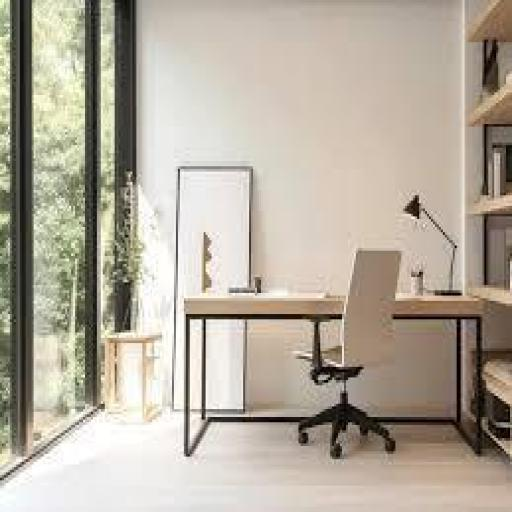chair: (294, 245, 404, 470)
